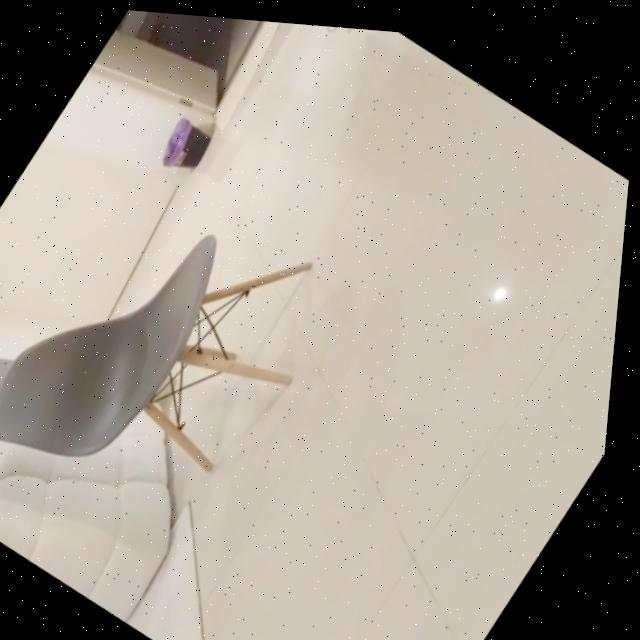sandalye: (0, 229, 316, 466)
